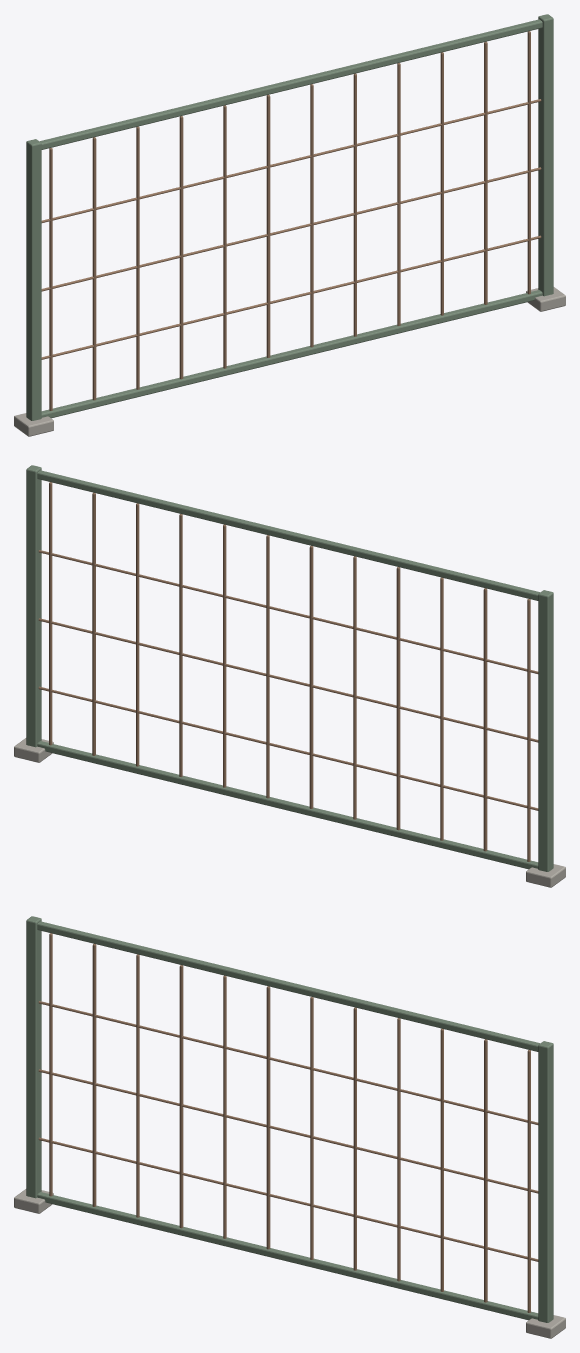
File: fence_4.fbx
The picture shows the model from 3 angles, top to bottom: view 1: azimuth 30°, elevation 25°; view 2: azimuth 150°, elevation 25°; view 3: azimuth 330°, elevation 25°; orthographic projection.
Visible parts, largest first — view 1: fence_4; view 2: fence_4; view 3: fence_4.
Part boxes in pixels (<box>): fence_4: <box>14,14,565,436</box>; fence_4: <box>14,465,565,887</box>; fence_4: <box>14,916,565,1338</box>.
Bounding box in the file's own units: 4.12 × 2.1 × 0.2.
